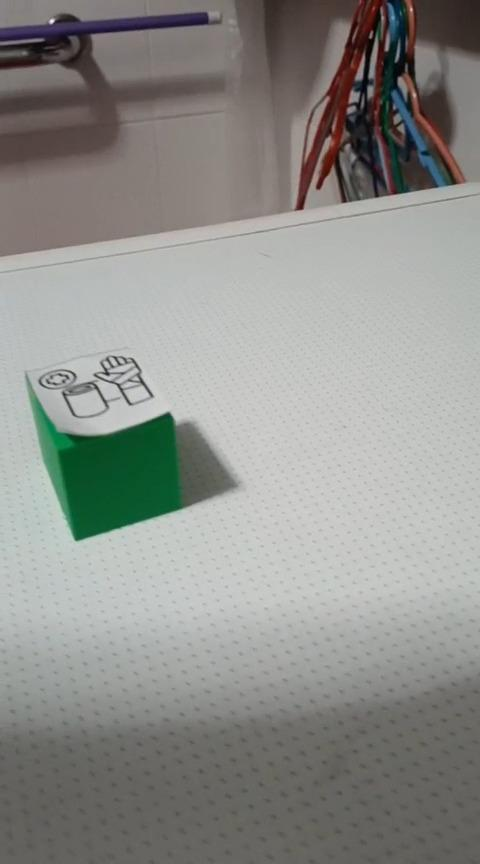Bandages: (23, 346, 182, 541)
